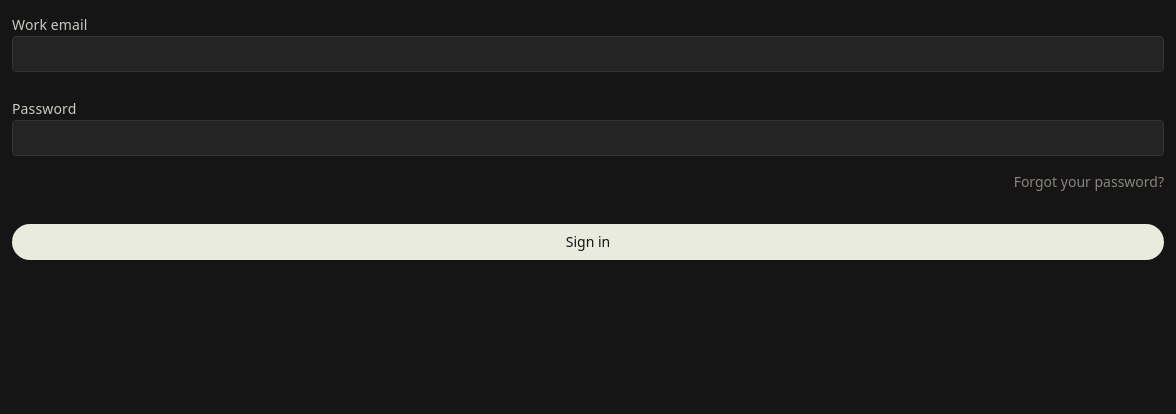
Test: LoginForm › shows the same generic error whether the email or the password was wrong
Step 1. Type "ada@wexley.example" into the field labelled "Work email" → (588, 54), box 12,36 -> 1164,72
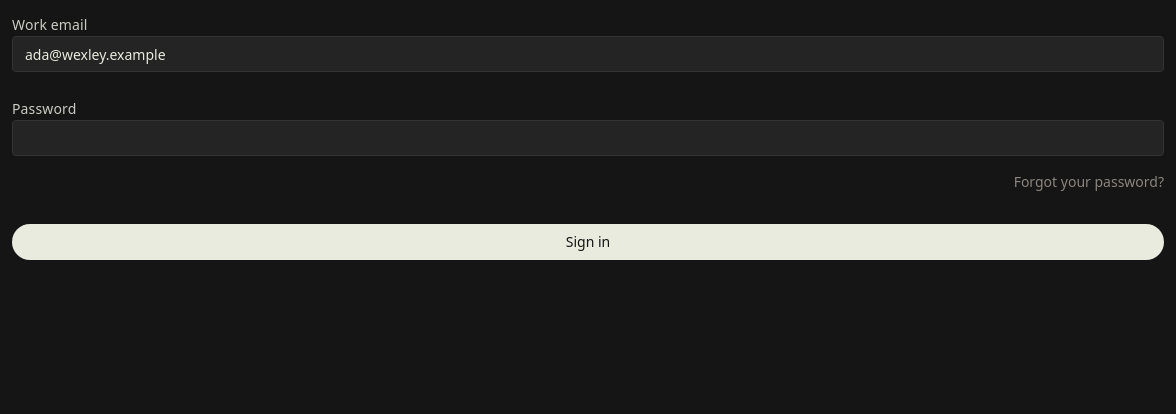
Step 2. Type "correct-horse-1!" into the password field labelled "Password" → (588, 138), box 12,120 -> 1164,156
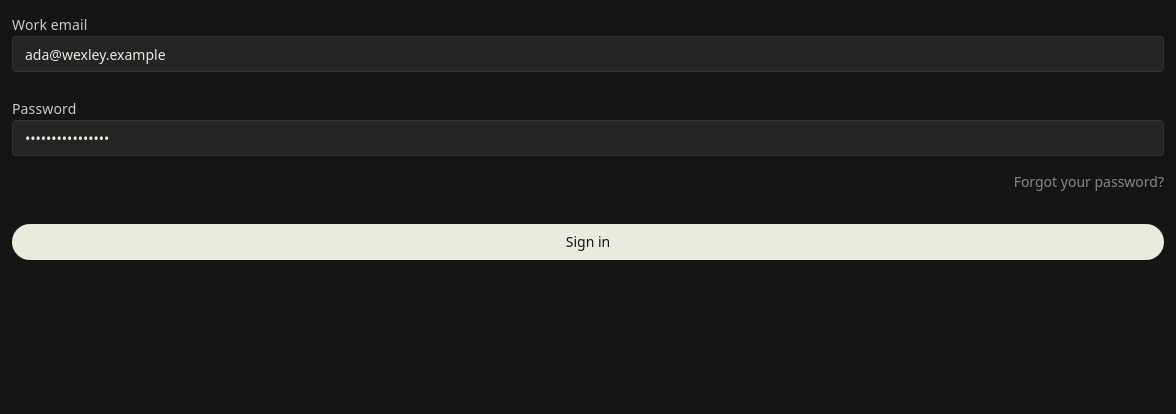
Step 3. Click the button "Sign in" → (588, 242), box 12,224 -> 1164,260
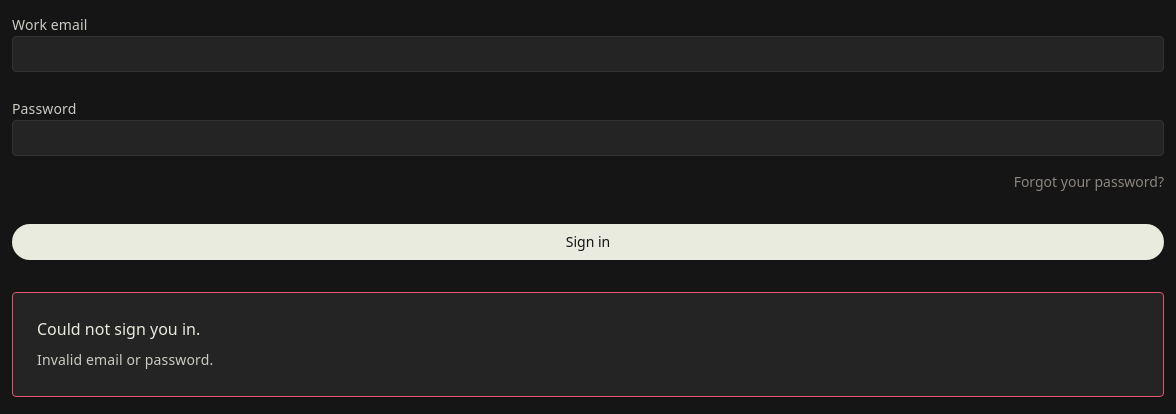
Result: the message shows "Invalid email or password." at 37,350 -> 213,369
